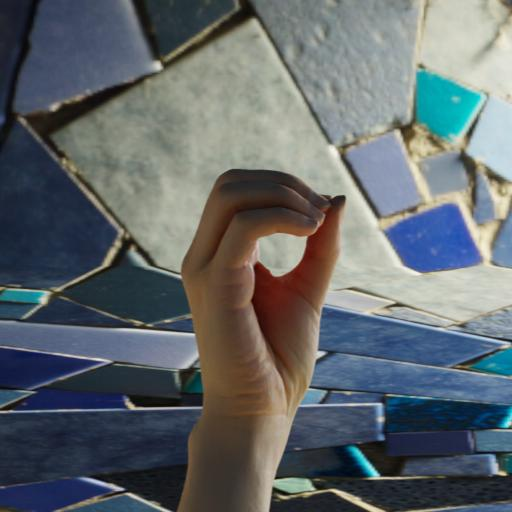O: (168, 152, 360, 476)
